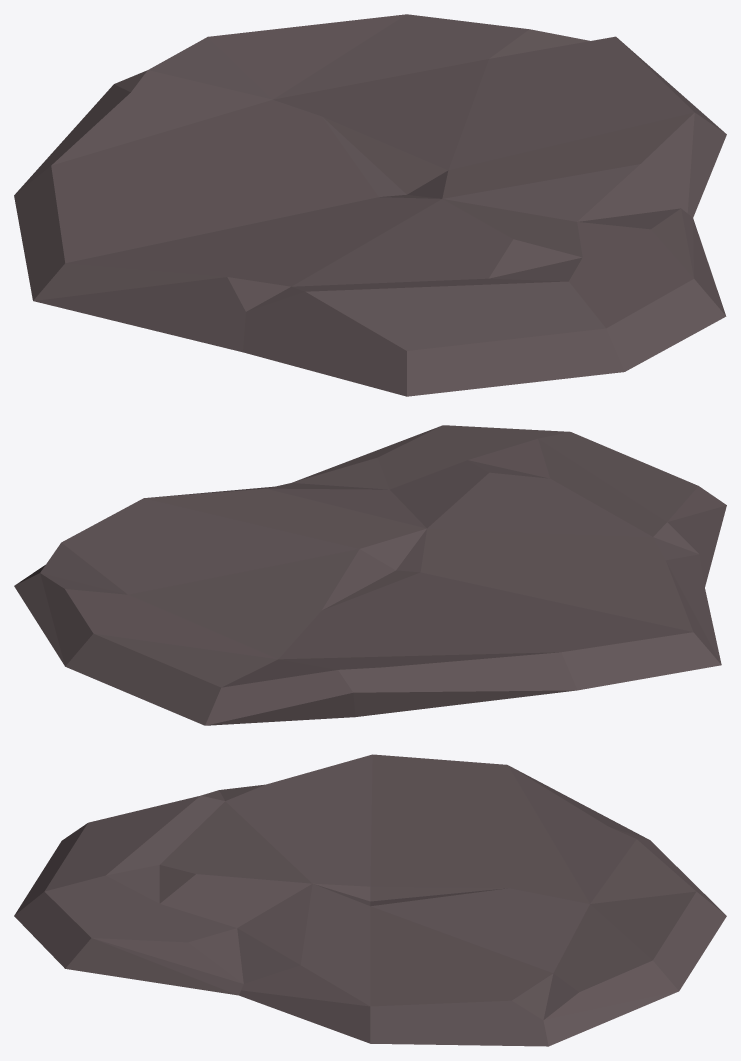
The model's file is mod_bg_DallePetite.fbx.
3 views of the same model, one above another, from view 1: azimuth 30°, elevation 25°; view 2: azimuth 150°, elevation 25°; view 3: azimuth 270°, elevation 25° (orthographic). The views are drawn at different scales.
Visible parts, largest first — view 1: DallePetite; view 2: DallePetite; view 3: DallePetite.
Part boxes in pixels (x1,y1,x2,y2): DallePetite: [14, 14, 726, 396]; DallePetite: [14, 425, 726, 725]; DallePetite: [14, 754, 726, 1046].
Bounding box in the file's own units: 79.98 × 6.56 × 86.3.
